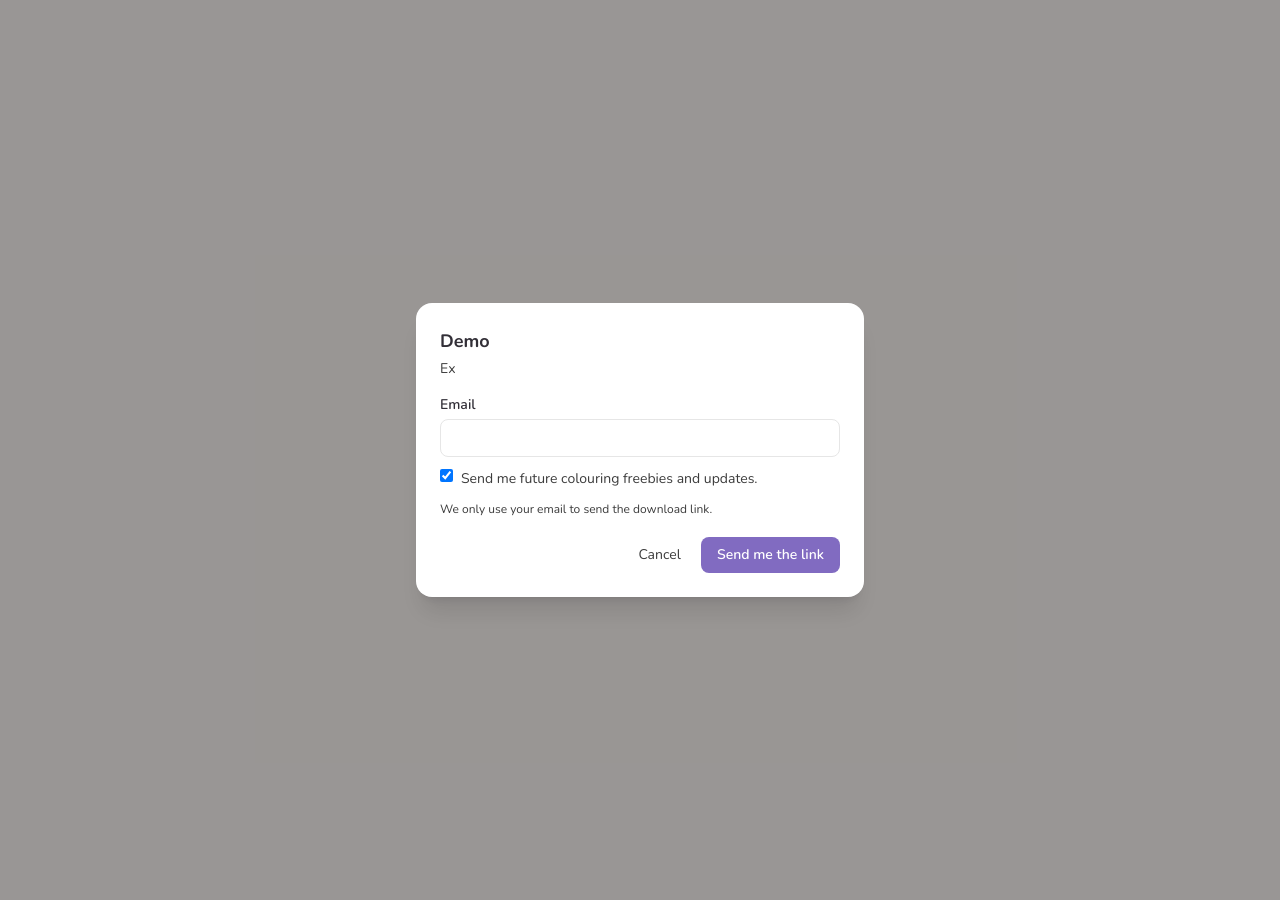
EmailGateModal › shows an error message when the request fails
This screenshot has width=1280, height=900.
Type "u@e.com" into the field labelled "Email" at (640, 438), box [440,419,840,457]
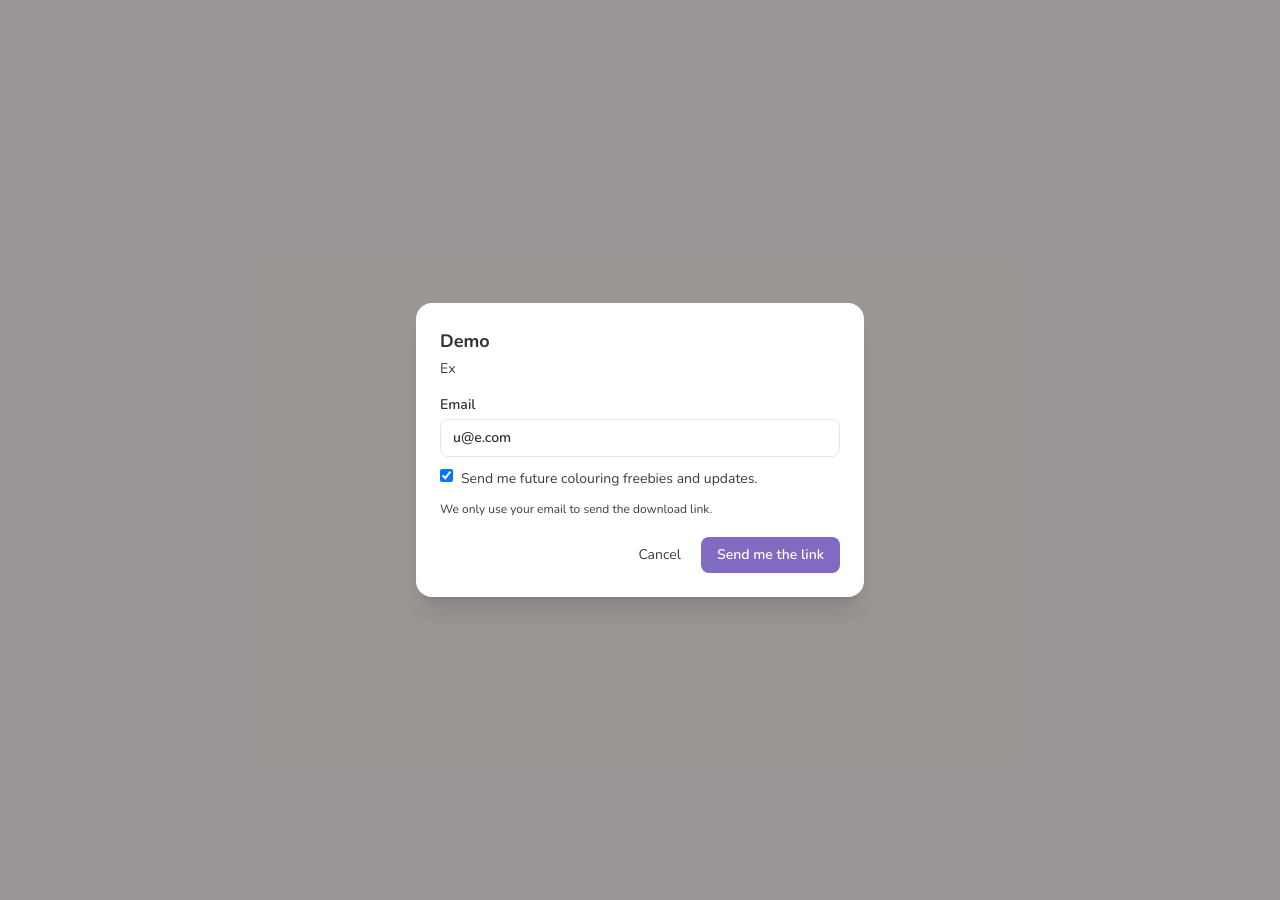
Click the button "Send me the link" at (770, 555), box [701,537,840,573]
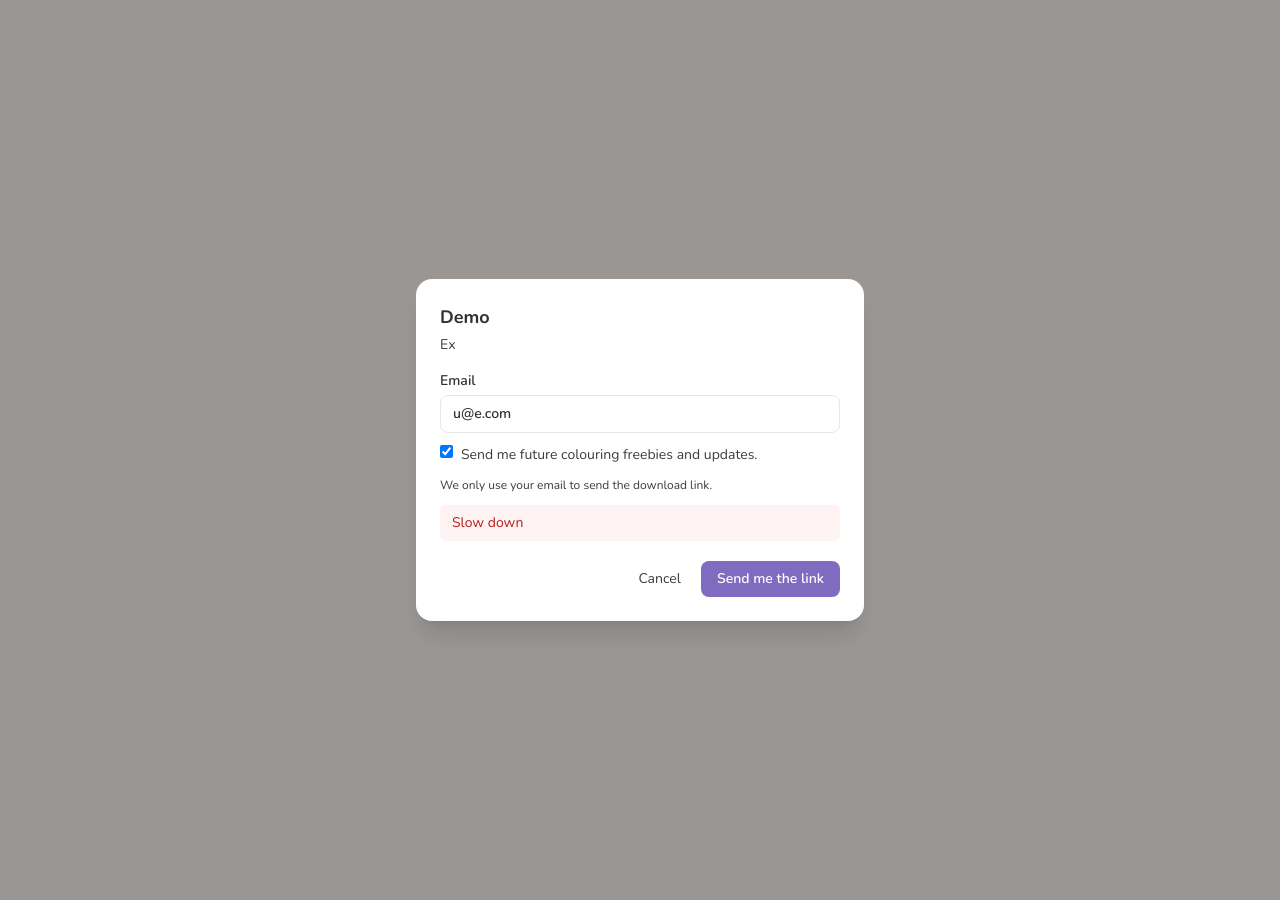
expect the text "Slow down" is shown: met, box [440,505,840,541]
